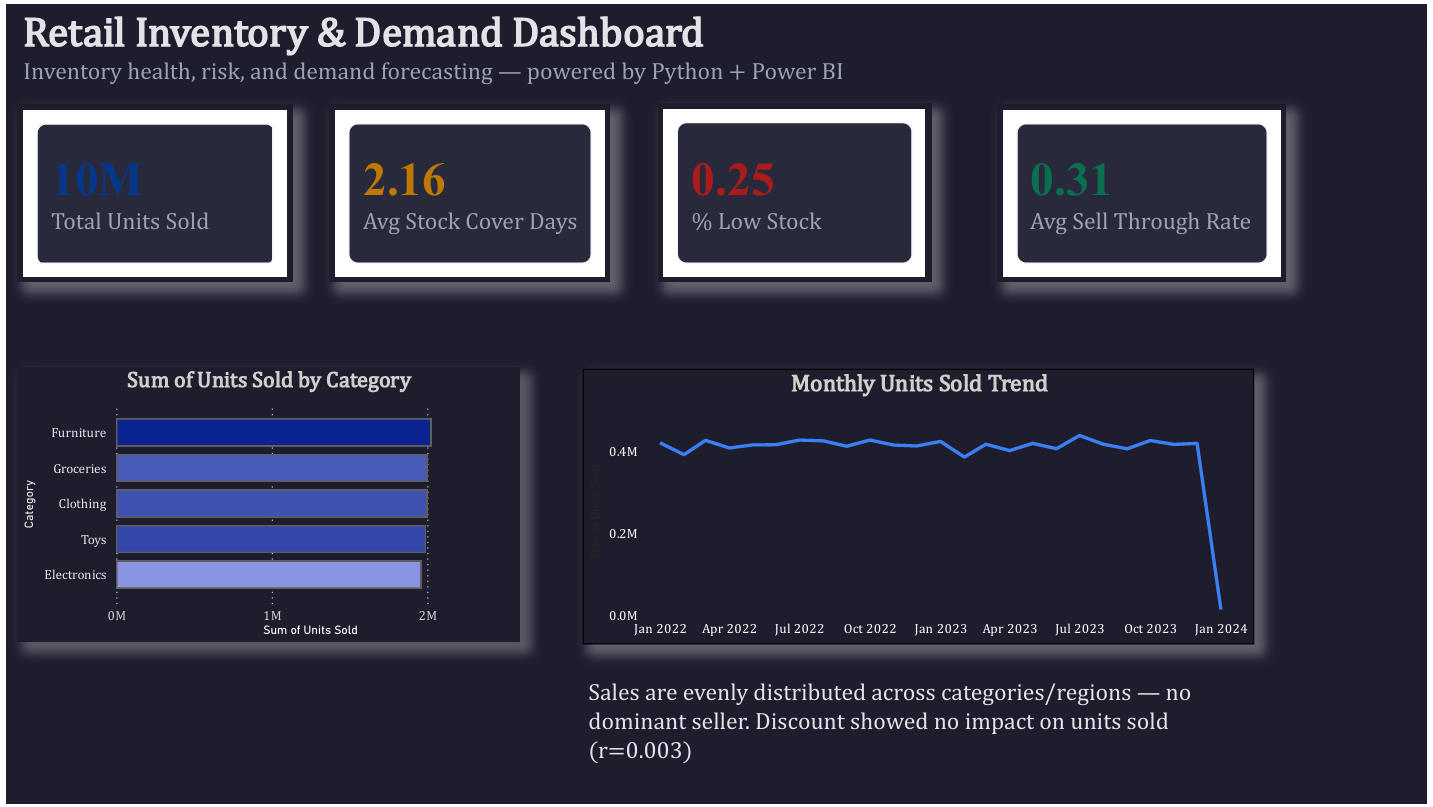

The dashboard page shown, as its layout file describes it:
{"tool":"powerbi","page":{"name":"Overview","canvas":[1280,720],"ordinal":0},"visuals":[{"type":"textbox","box":[9.6,0,837.1,79.6],"z":0},{"type":"cardVisual","fields":{"Data":["Sum(inventory_analysis_full.Units Sold)"]},"box":[10,90,247.8,160],"z":1000},{"type":"cardVisual","fields":{"Data":["Avg(inventory_analysis_full.Stock_Cover_Days)"]},"box":[291.1,90,253.3,160],"z":2000},{"type":"cardVisual","fields":{"Data":["at_risk_products.% Low Stock"]},"box":[586.7,88.9,246.7,161.1],"z":3000},{"type":"clusteredBarChart","fields":{"Category":["inventory_analysis_full.Category"],"Y":["Sum(inventory_analysis_full.Units Sold)"]},"box":[10,326.7,453.3,247.8],"z":4000},{"type":"lineChart","title":"Monthly Units Sold Trend","fields":{"Y":["Sum(monthly_sales.Units Sold)"],"Category":["monthly_sales.Month"]},"box":[518.9,327.8,605.6,247.8],"z":5000},{"type":"cardVisual","fields":{"Data":["at_risk_products.Avg Sell Through Rate"]},"box":[893.3,90,260,160],"z":6000},{"type":"textbox","box":[518.9,602.2,605.6,90],"z":6001}]}

Visuals, with their boxes in screenshot pixels (x1, y1, x2, y2), scaled from the page's 1280x720 canvas onto the 1433x807 screenshot:
textbox: locate(11, 0, 948, 89)
cardVisual - Sum(inventory_analysis_full.Units Sold): locate(11, 101, 289, 280)
cardVisual - Avg(inventory_analysis_full.Stock_Cover_Days): locate(326, 101, 609, 280)
cardVisual - at_risk_products.% Low Stock: locate(657, 100, 933, 280)
clusteredBarChart - inventory_analysis_full.Category x Sum(inventory_analysis_full.Units Sold): locate(11, 366, 519, 644)
"Monthly Units Sold Trend" lineChart: locate(581, 367, 1259, 645)
cardVisual - at_risk_products.Avg Sell Through Rate: locate(1000, 101, 1291, 280)
textbox: locate(581, 675, 1259, 776)
